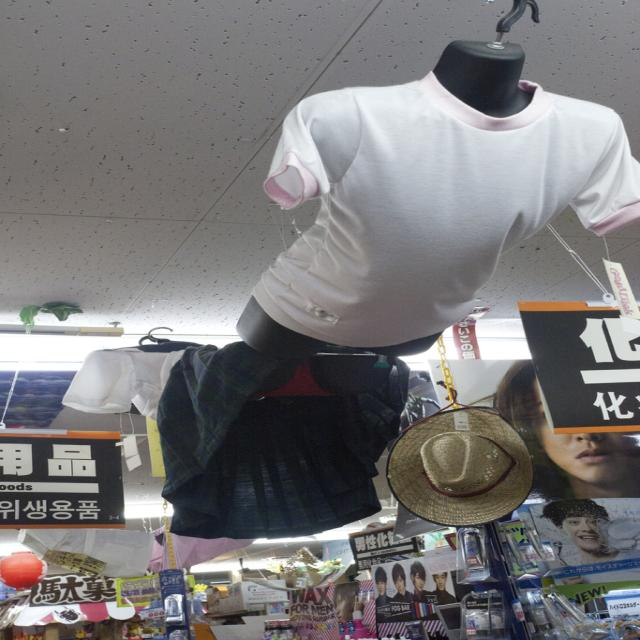Hat: (384, 401, 538, 528)
